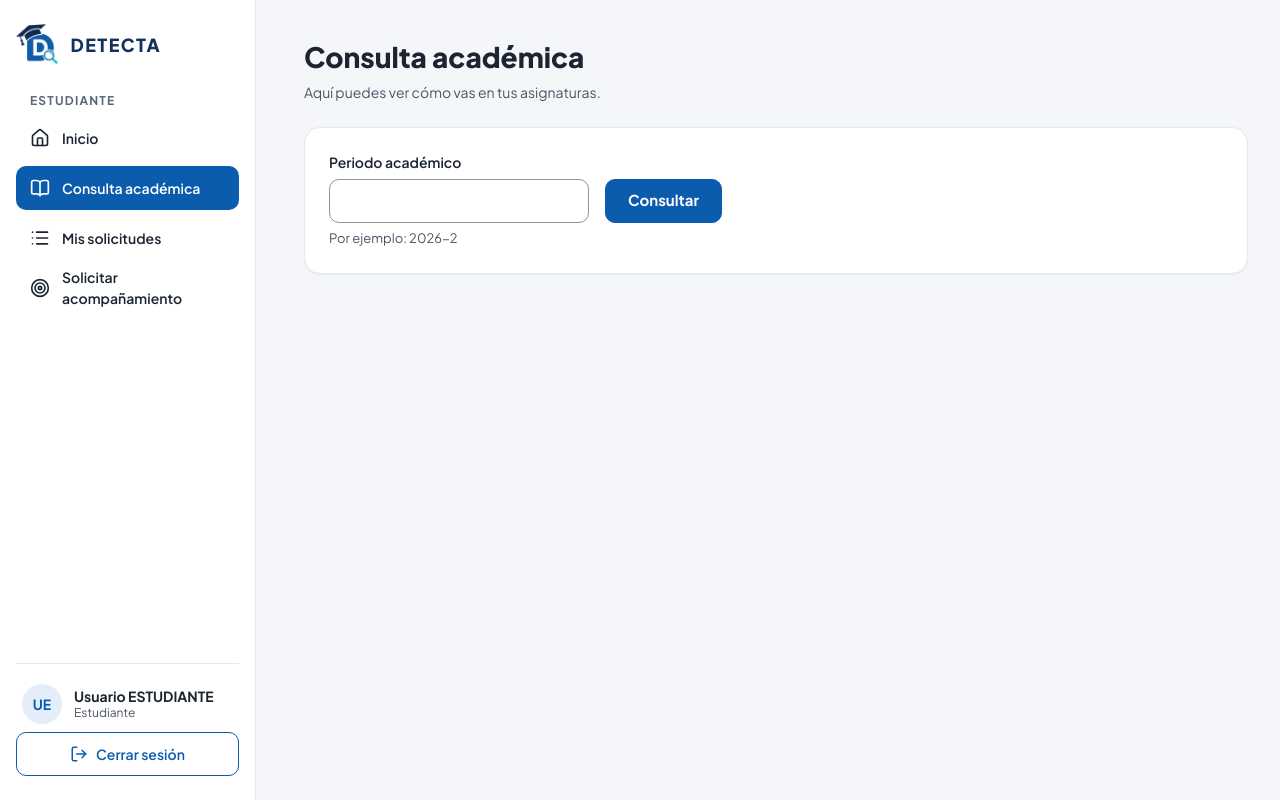
it: Consulta académica con cifras y avisos (D4b) › sin dato de asistencia ni de nota: «Información no disponible» y sin barra
The width and height of the screenshot is (1280, 800).
Type "2026-2" into the field labelled "Periodo académico".
click(459, 201); type("2026-2")  # box [329,179,589,223]
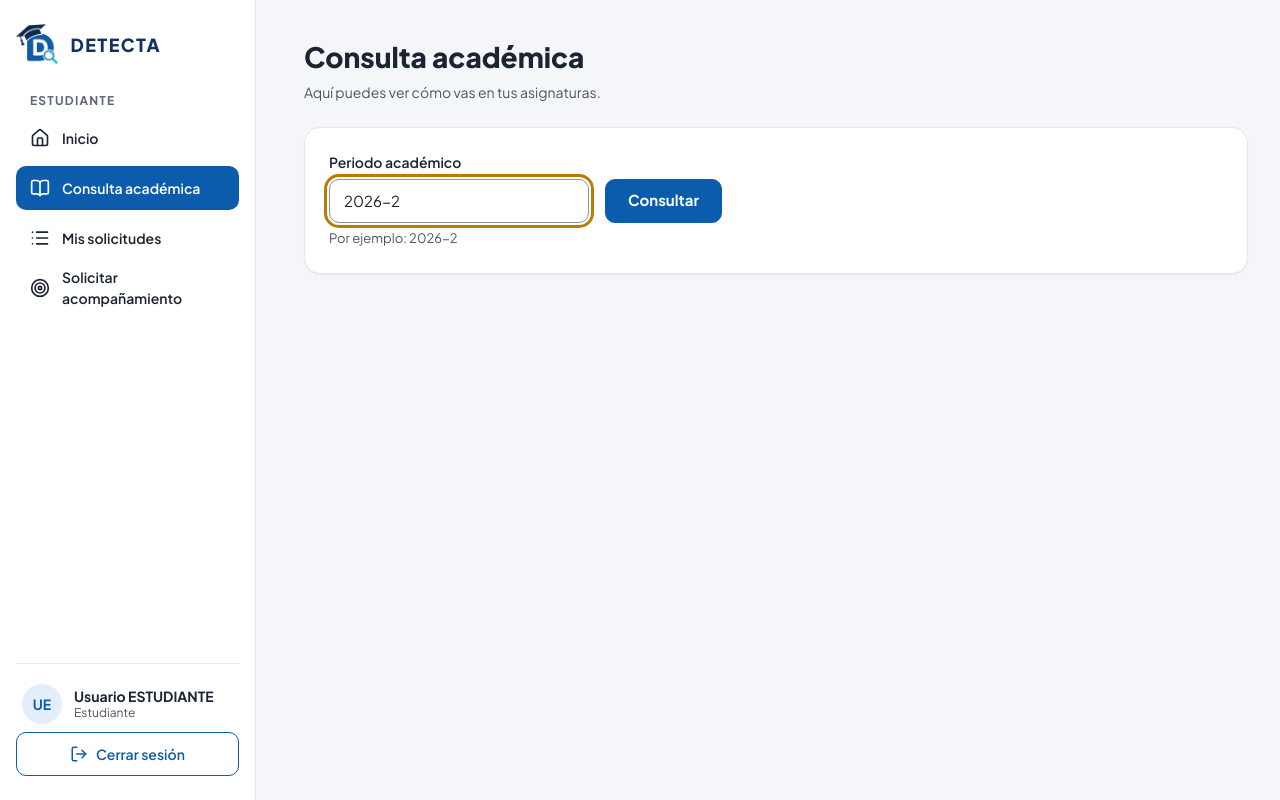
Click the button "Consultar".
click(664, 201)  # box [605,179,722,223]
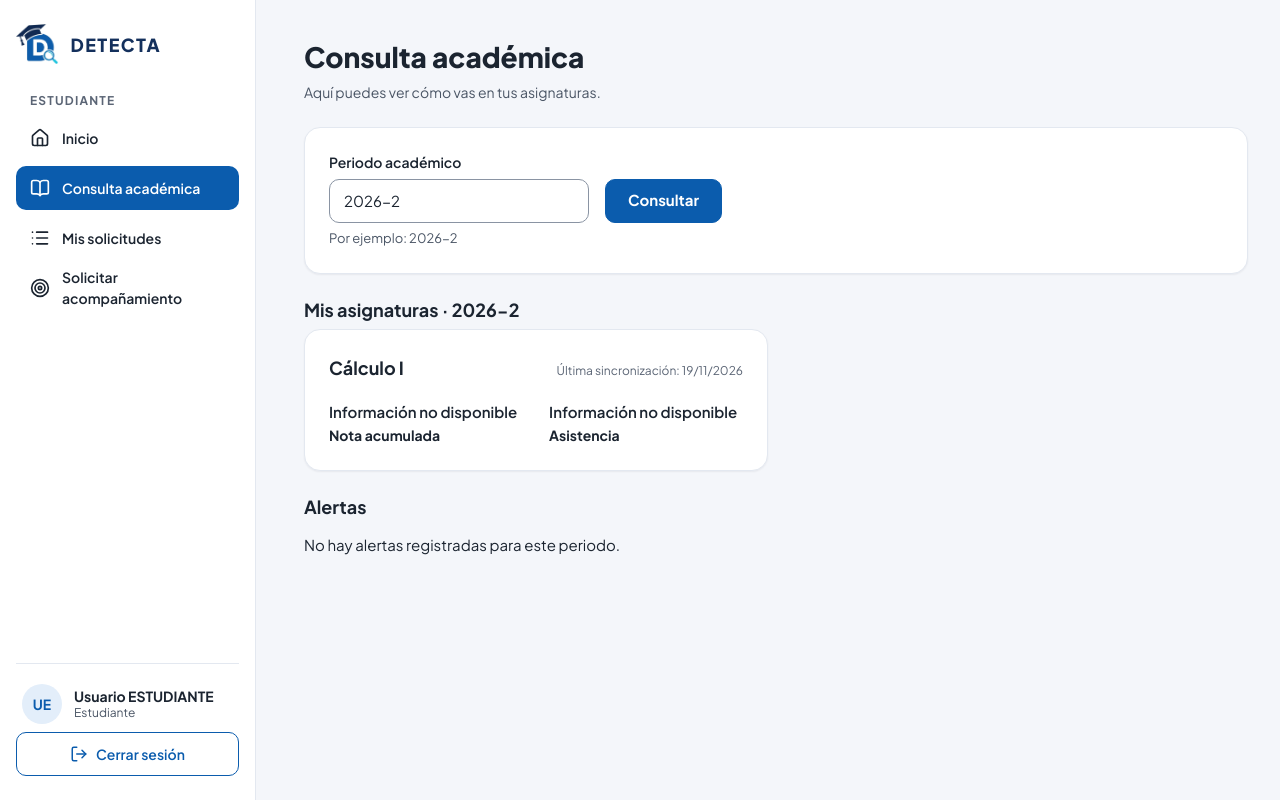
Check: the text "Información no disponible" is shown 2 times, box [329,401,517,424]; [549,401,743,424]
